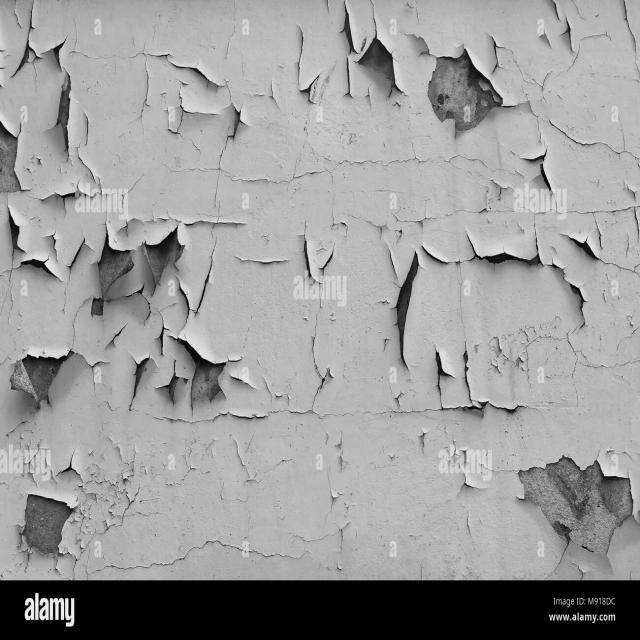peeling paint: (0, 0, 640, 580)
